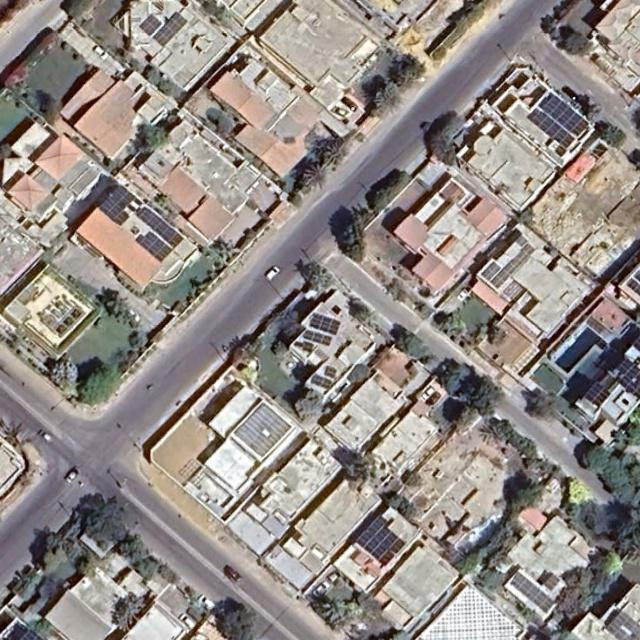solar panel: (234, 403, 292, 459), (357, 513, 408, 567), (527, 108, 575, 157), (538, 92, 589, 136), (135, 206, 185, 248), (491, 244, 535, 289), (510, 573, 555, 613), (99, 186, 138, 227), (153, 11, 188, 47), (136, 231, 172, 263), (619, 360, 639, 398), (583, 381, 612, 407), (310, 313, 340, 335), (608, 619, 639, 639), (616, 612, 639, 638), (139, 13, 162, 36), (539, 571, 562, 591), (305, 330, 331, 344), (482, 262, 501, 280), (311, 374, 332, 389), (325, 365, 337, 378), (303, 343, 313, 352)
